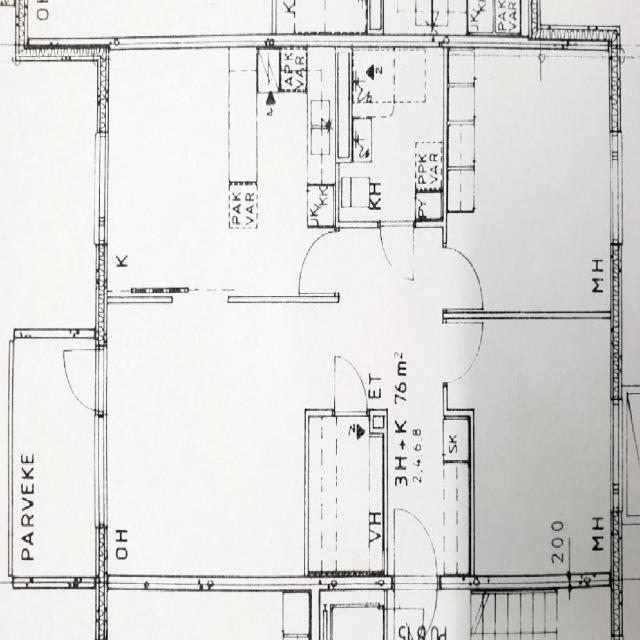door: (395, 503, 437, 587), (60, 350, 109, 412), (395, 573, 437, 640), (298, 231, 340, 294), (444, 248, 486, 309), (443, 323, 484, 382), (380, 222, 414, 283), (334, 356, 367, 417)
